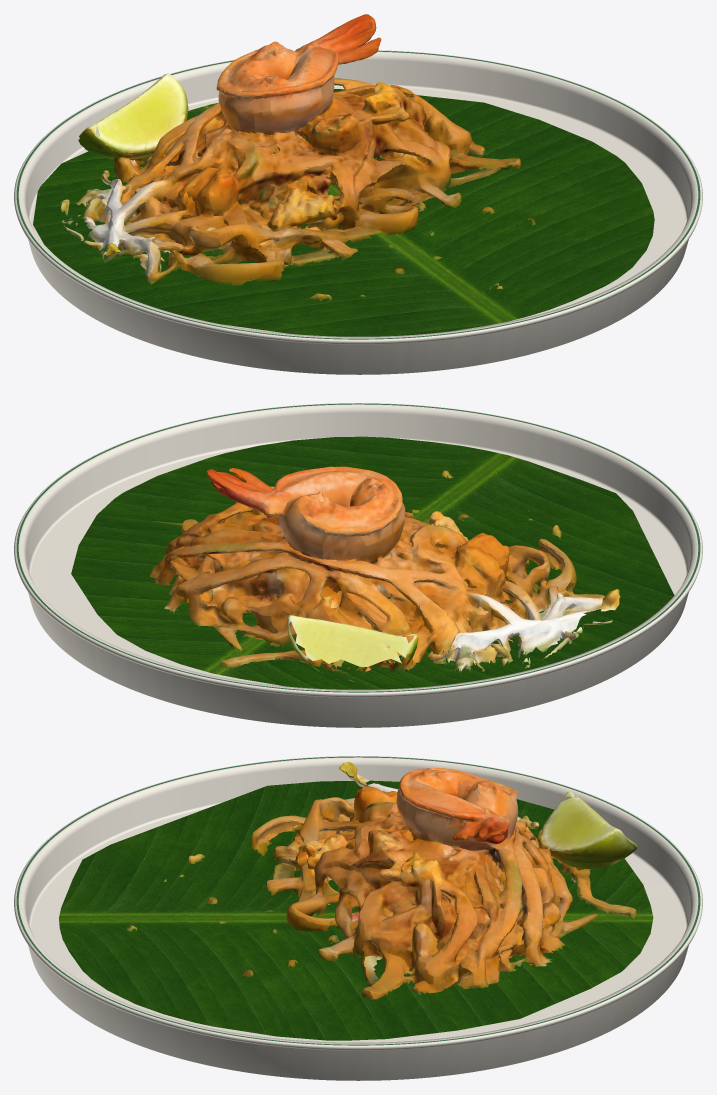
Rendered from pad-thai-2.glb.
3 renders of one model, top to bottom at view 1: azimuth 30°, elevation 25°; view 2: azimuth 150°, elevation 25°; view 3: azimuth 270°, elevation 25°, orthographic.
Visible parts, largest first — view 1: food/independent-stage-2, canonical/continuous-leaf-repair, support/regular-closed-plate; view 2: food/independent-stage-2, support/regular-closed-plate, canonical/continuous-leaf-repair; view 3: canonical/continuous-leaf-repair, food/independent-stage-2, support/regular-closed-plate.
Part boxes in pixels (x1,y1,x2,y2): food/independent-stage-2: (61, 14, 535, 301); canonical/continuous-leaf-repair: (33, 89, 654, 336); support/regular-closed-plate: (14, 50, 702, 374); food/independent-stage-2: (150, 466, 620, 681); support/regular-closed-plate: (14, 403, 702, 727); canonical/continuous-leaf-repair: (71, 436, 674, 689); canonical/continuous-leaf-repair: (59, 780, 653, 1040); food/independent-stage-2: (126, 762, 637, 999); support/regular-closed-plate: (14, 756, 702, 1080).
Bounding box in the file's own units: 2.64 × 0.6512 × 2.64.
Materials: 4 (2 with a texture image).
